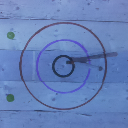Axe Tip: (71, 59, 86, 63)
